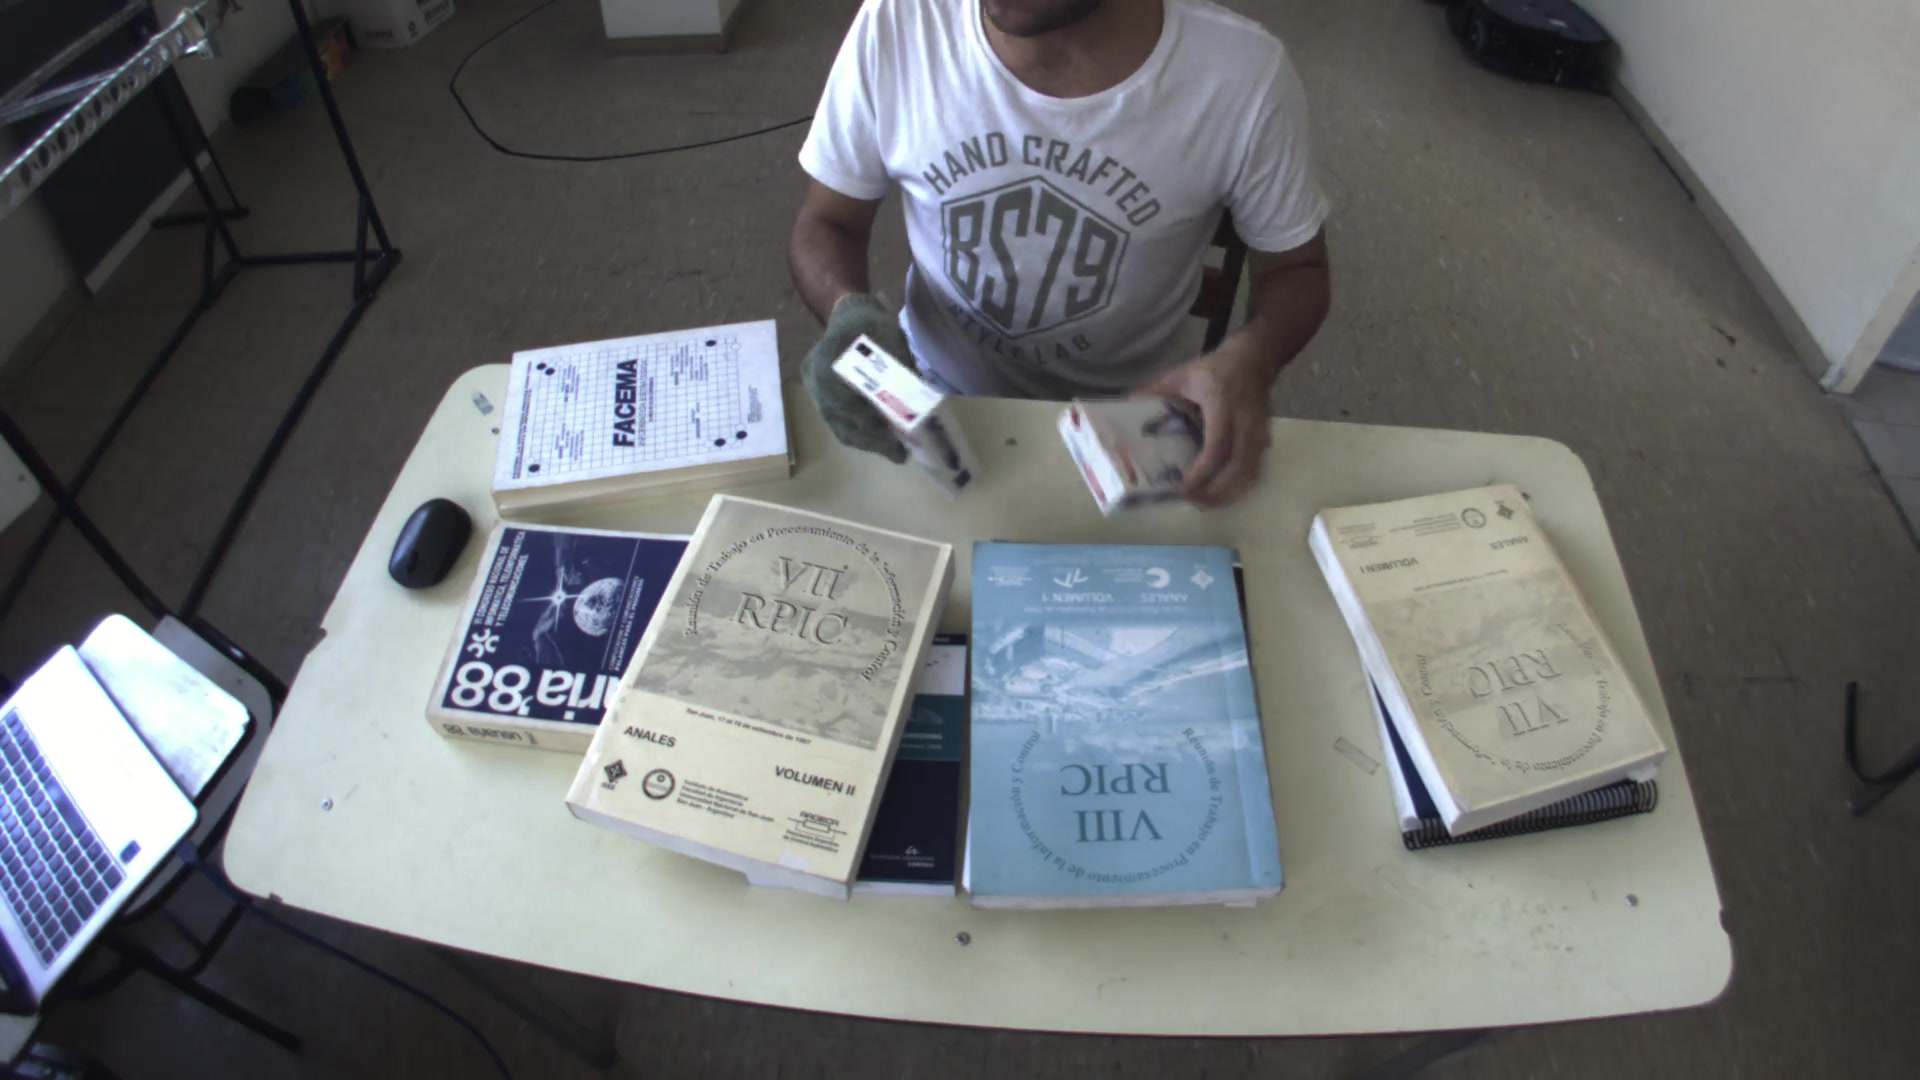hand: (1145, 338, 1292, 505), (804, 289, 926, 467)
